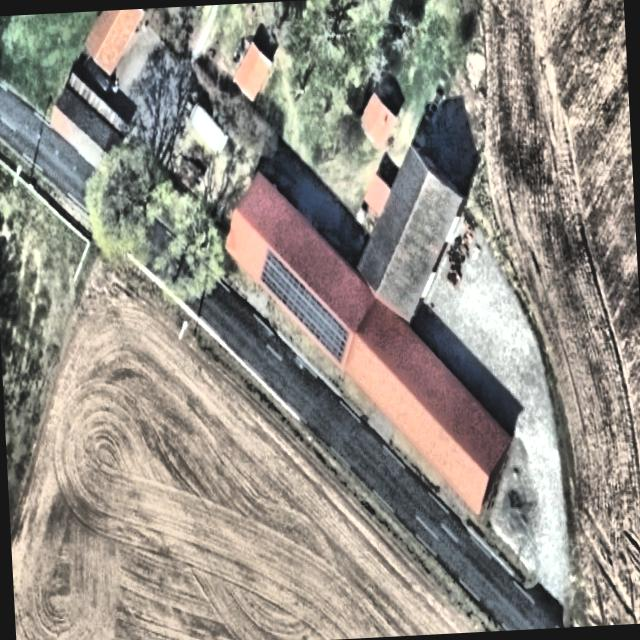roof_pv: (288, 281, 356, 371), (256, 242, 310, 320)
